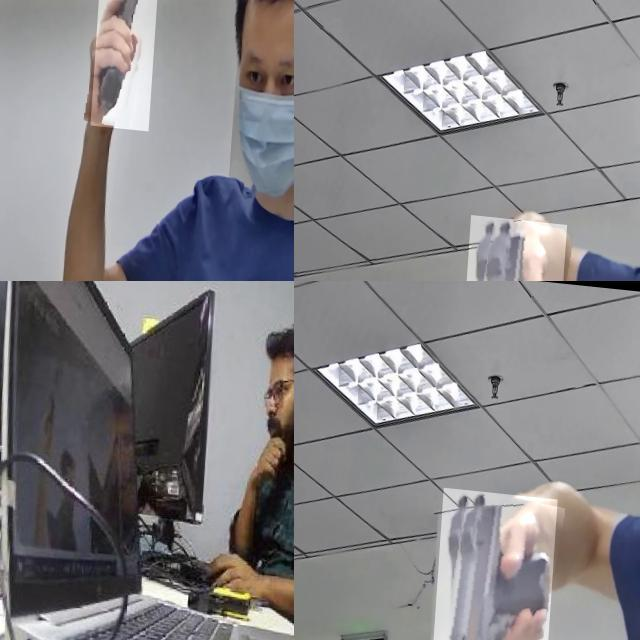gun-knife-thesis - v11 Yolov5 augmented: (429, 482, 560, 640), (96, 0, 168, 132), (458, 210, 570, 281)
